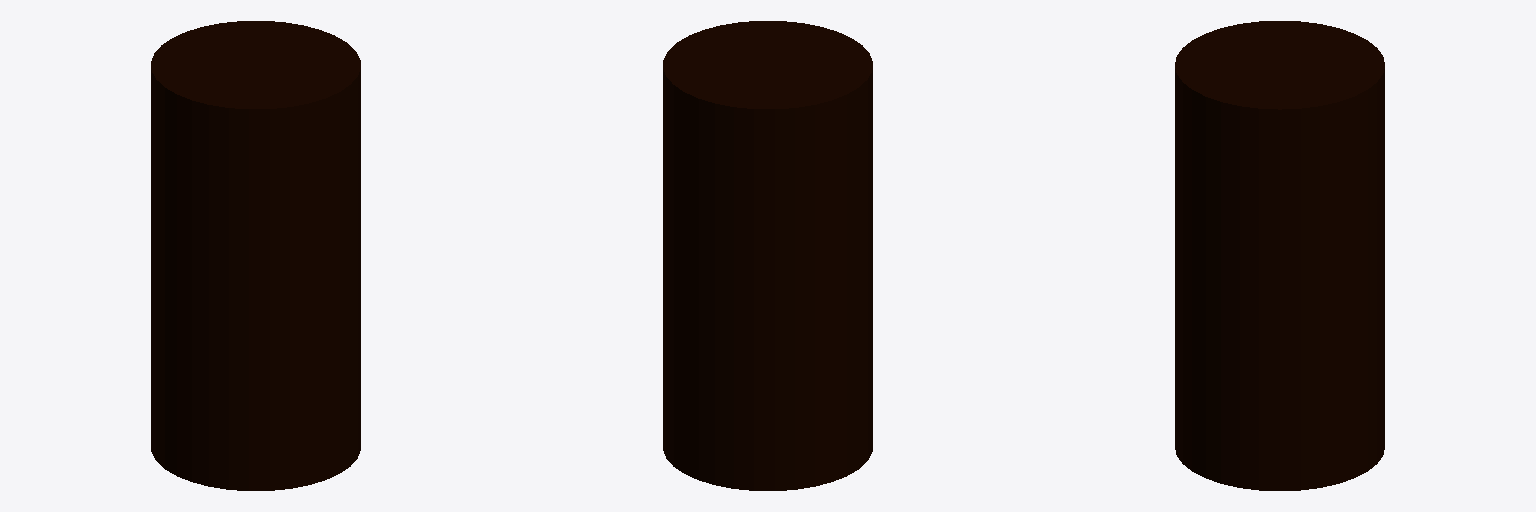
File: cylinder_half_radius_type1.obj
3 views of the same model, side by side, from view 1: azimuth 30°, elevation 25°; view 2: azimuth 150°, elevation 25°; view 3: azimuth 270°, elevation 25° (orthographic).
Visible parts, largest first — view 1: cylinder_half_radius; view 2: cylinder_half_radius; view 3: cylinder_half_radius.
Part boxes in pixels (left/top/right/bottom): cylinder_half_radius: left=151, top=21, right=360, bottom=490; cylinder_half_radius: left=663, top=21, right=872, bottom=490; cylinder_half_radius: left=1175, top=21, right=1384, bottom=490.
Bounding box in the file's own units: 1 × 2 × 1.